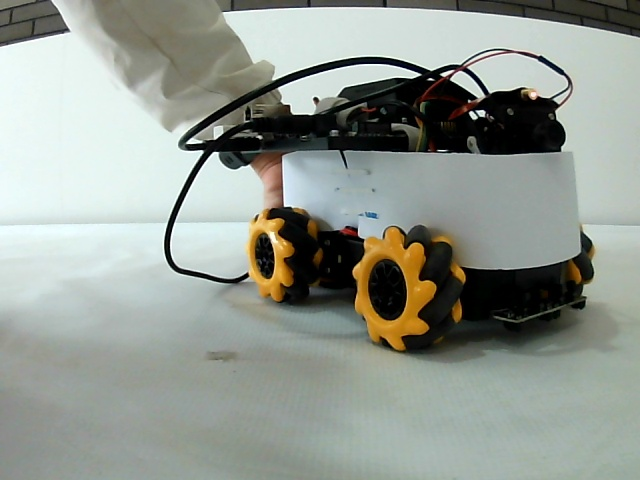car: (239, 80, 593, 349)
paper: (283, 153, 579, 260)
